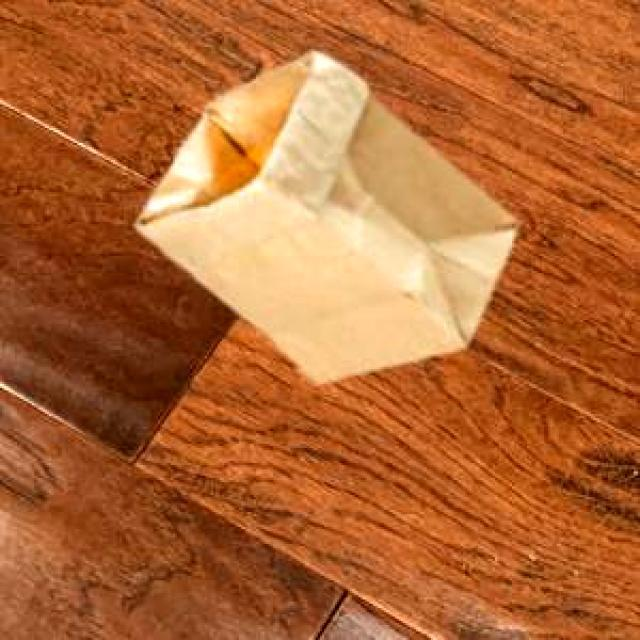Paper_Bag: (133, 50, 513, 379)
